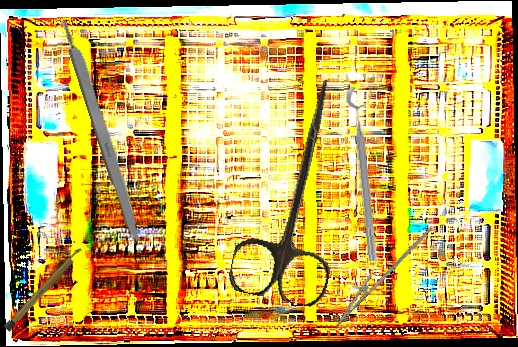Fixation Ring: (344, 84, 393, 263)
Iris Scissors: (226, 68, 369, 310)
Needle Holder: (327, 210, 433, 338)
Scalpel Handle: (58, 17, 148, 247), (3, 246, 85, 332)
